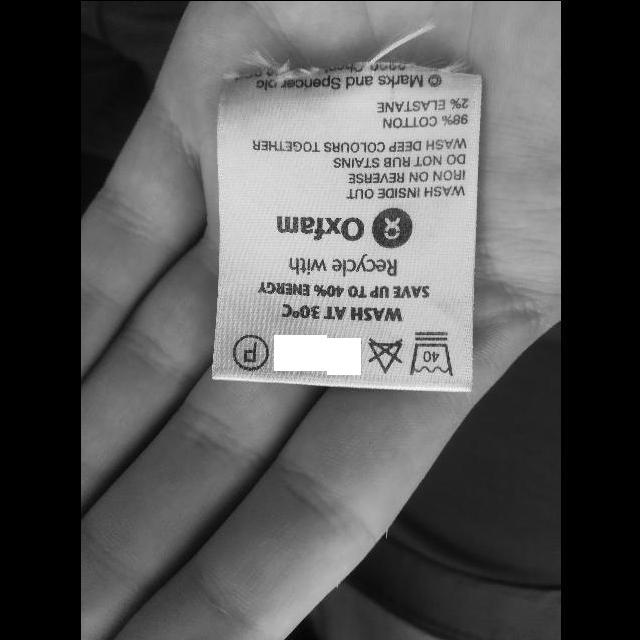40C: (408, 330, 454, 376)
DN_bleach: (366, 336, 404, 374)
normal_dry_clean_solvents: (230, 332, 270, 372)
